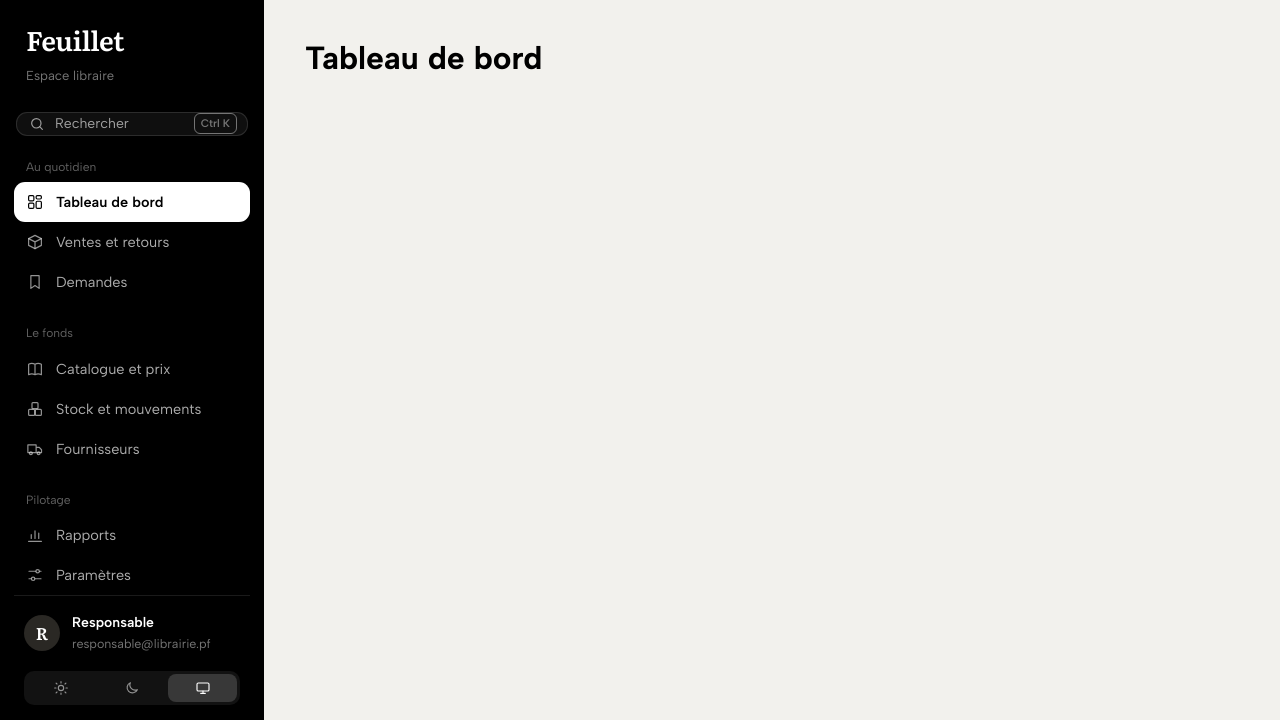
Scenario: cadre de l espace responsable › garde l apparence choisie : claire, sombre ou celle du système
Click the button named "Apparence sombre". click: (132, 688)
box: top-left (98, 674), bottom-right (166, 702)
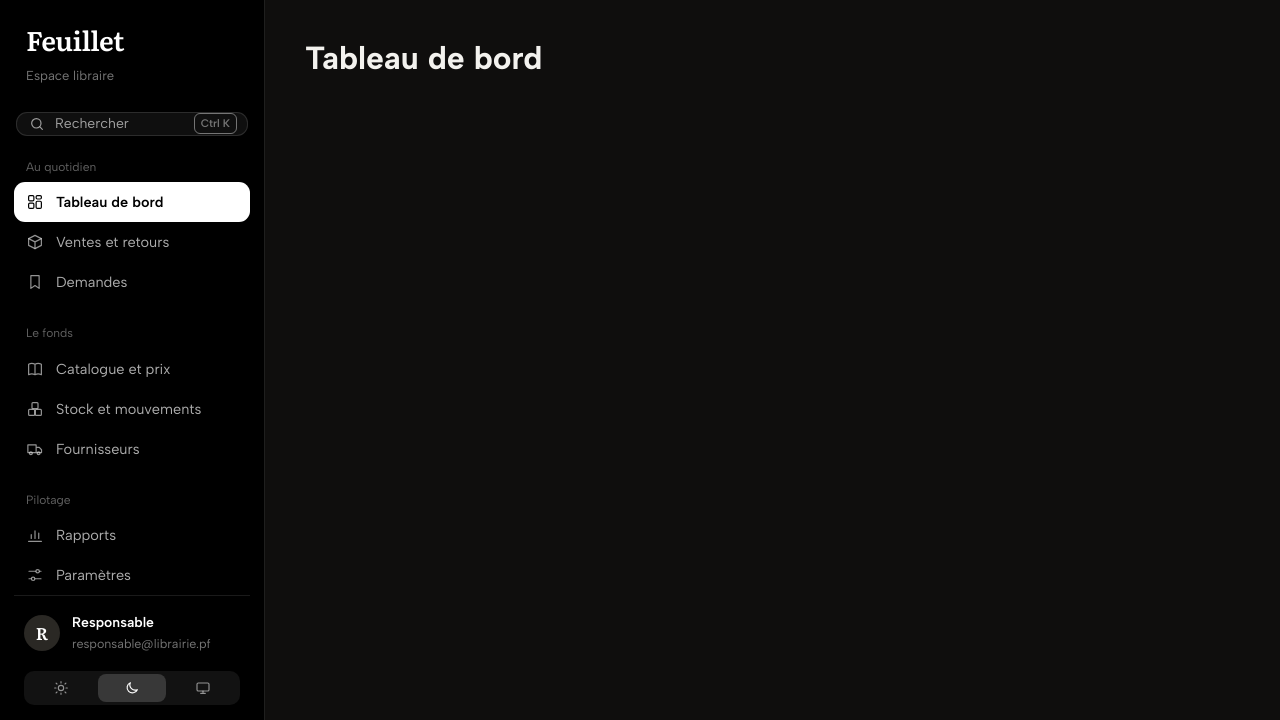
Check: the element with class "espace-responsable" has attribute data-apparence="sombre"
Check: the button named "Apparence sombre" is pressed, box top-left (98, 674), bottom-right (166, 702)
Click the button named "Apparence du système". click: (203, 688)
box: top-left (168, 674), bottom-right (237, 702)
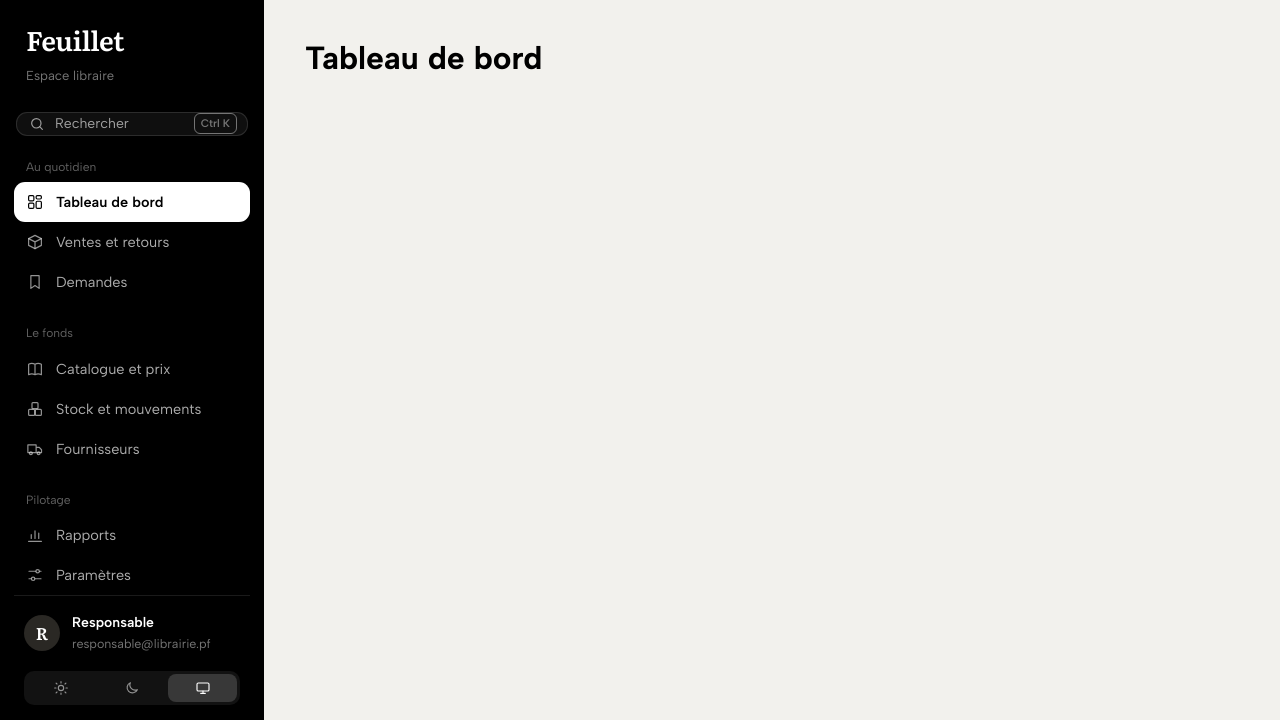
Check: the element with class "espace-responsable" does not have attribute data-apparence
